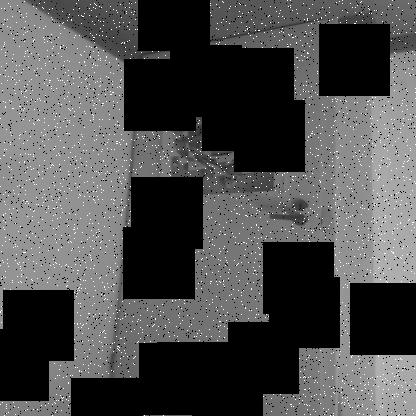Porte: (104, 17, 342, 416)
